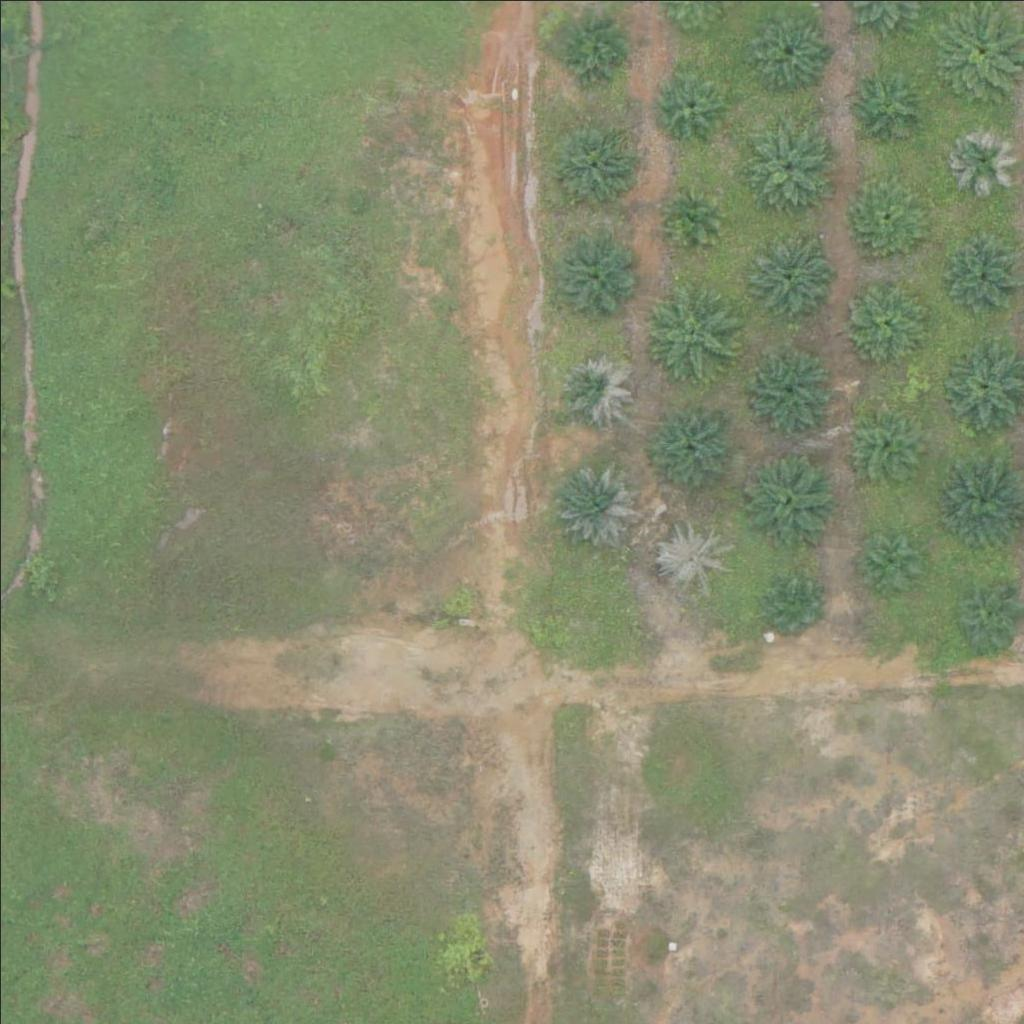Kelapa_Sawit: (736, 448, 836, 548), (637, 394, 737, 494), (637, 280, 737, 380), (842, 169, 930, 258), (740, 2, 828, 91), (841, 63, 929, 151), (839, 272, 927, 360), (553, 458, 641, 546), (551, 228, 639, 316), (550, 117, 638, 205), (744, 343, 831, 431), (745, 227, 832, 315), (744, 117, 831, 205), (655, 519, 730, 595), (554, 349, 629, 425), (849, 401, 924, 476), (649, 65, 724, 140), (552, 10, 627, 85), (945, 233, 1020, 308), (943, 119, 1018, 194), (956, 580, 1019, 643), (859, 533, 922, 596), (659, 182, 722, 245), (764, 573, 826, 635)
